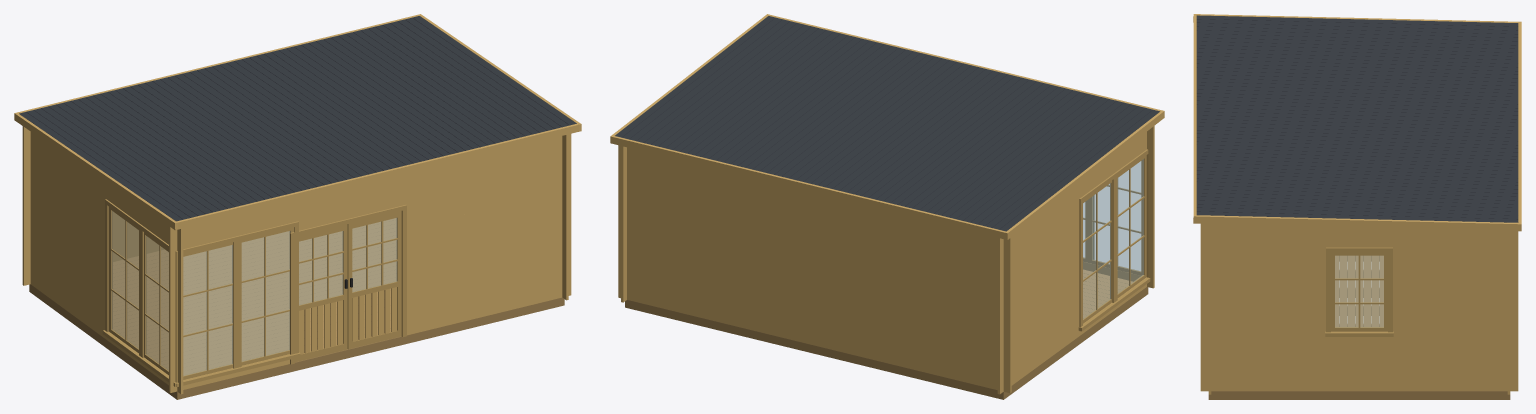
File: прима_плюс_6_4_34_20_мм_угловое_остекление.glb
3 views of the same model, side by side, from view 1: azimuth 30°, elevation 25°; view 2: azimuth 150°, elevation 25°; view 3: azimuth 270°, elevation 25° (orthographic). The views are drawn at different scales.
Visible parts, largest first — view 1: roof, walls, floor, object 45, object 57, Прима плюс 6×4 (34+20 мм, угловое остекление), object 81, object 31, object 14, object 69, object 19, object 20 (+8 smaller); view 2: walls, roof, Прима плюс 6×4 (34+20 мм, угловое остекление), object 45, object 81, object 69, floor, object 85, object 73; view 3: roof, walls, object 93, floor, Прима плюс 6×4 (34+20 мм, угловое остекление), object 97, object 98, object 100, object 99, object 90, object 89.
Part boxes in pixels (x1,y1,x2,y2): roof: [14, 14, 581, 230]; walls: [22, 126, 571, 394]; floor: [113, 218, 396, 375]; object 45: [183, 245, 232, 375]; object 57: [242, 231, 289, 361]; Прима плюс 6×4 (34+20 мм, угловое остекление): [29, 284, 564, 399]; object 81: [112, 211, 138, 348]; object 31: [352, 218, 396, 291]; object 14: [299, 231, 342, 305]; object 69: [146, 236, 168, 370]; object 19: [347, 223, 352, 348]; object 20: [396, 211, 401, 336]; walls: [618, 126, 1154, 394]; roof: [610, 14, 1164, 239]; Прима плюс 6×4 (34+20 мм, угловое остекление): [625, 287, 1148, 399]; object 45: [1092, 161, 1140, 271]; object 81: [1083, 183, 1110, 319]; object 69: [1118, 159, 1143, 293]; floor: [1083, 269, 1132, 318]; object 85: [1079, 197, 1082, 331]; object 73: [1112, 173, 1115, 302]; roof: [1193, 14, 1521, 231]; walls: [1200, 223, 1518, 394]; object 93: [1335, 256, 1383, 327]; floor: [1335, 255, 1383, 326]; Прима плюс 6×4 (34+20 мм, угловое остекление): [1208, 256, 1510, 399]; object 97: [1326, 247, 1330, 332]; object 98: [1388, 247, 1392, 332]; object 100: [1325, 331, 1393, 336]; object 99: [1327, 247, 1388, 252]; object 90: [1384, 252, 1387, 331]; object 89: [1331, 252, 1334, 331].
Size of the model in its own units: 6.03 by 2.61 by 4.13.
